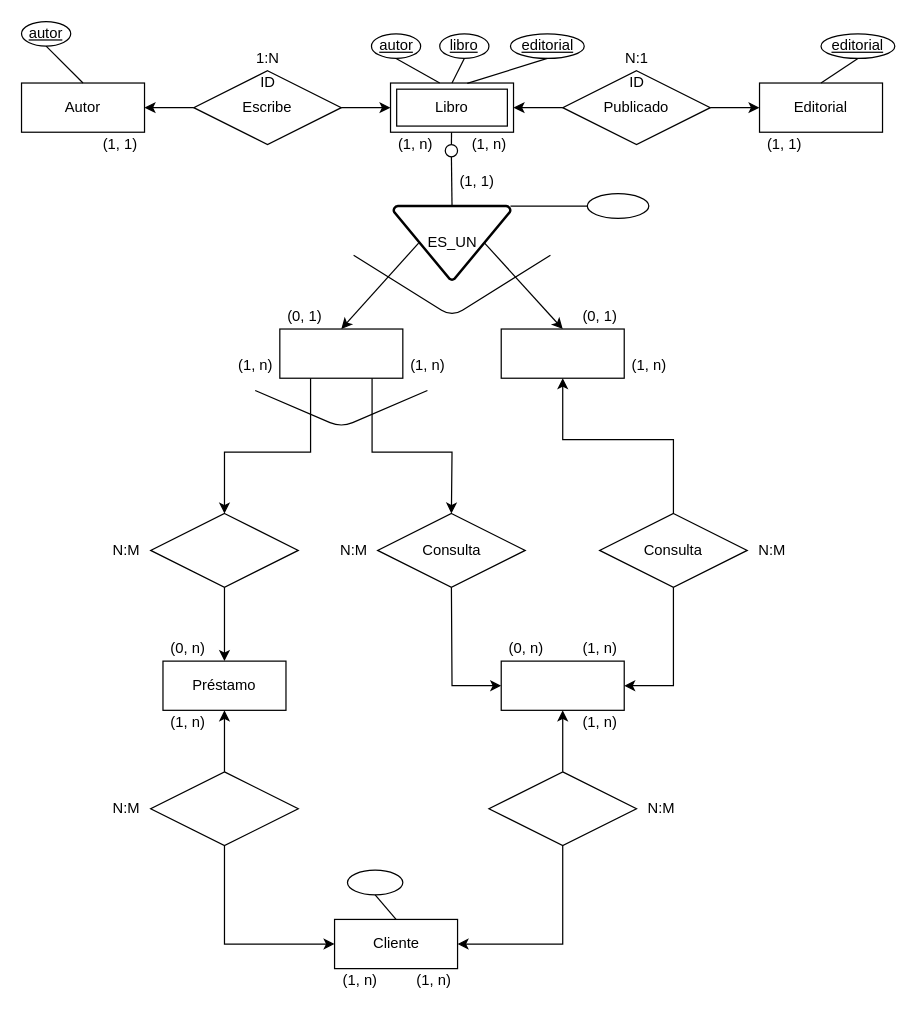
This 916x1015 diagram has some shape labels left out. Here are the shapes that lost their labels. From the top down, the centre of each, then its label:
At point (617, 205): "Tipo".
At point (341, 353): "Prestable".
At point (562, 353): "No_prestable".
At point (223, 549): "Presta".
At point (562, 685): "Consulta_en_sala".
At point (223, 808): "Es_prestado".
At point (562, 808): "Es_consultado".
At point (374, 882): "DNI".
